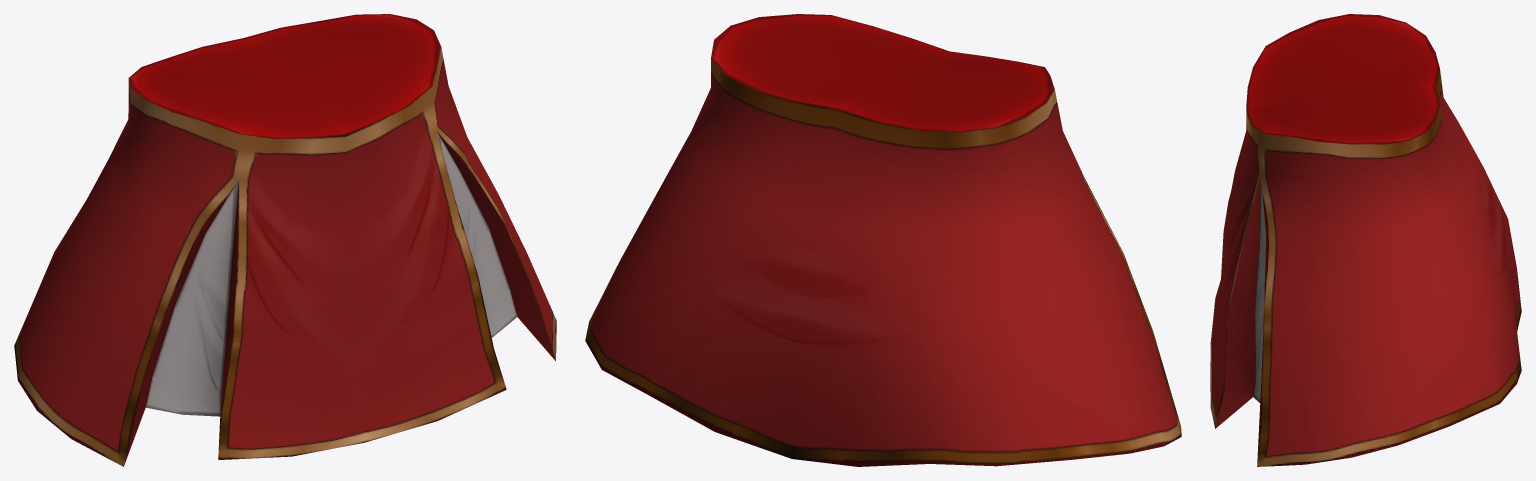
The model's file is armorskirt.glb.
3 views of the same model, side by side, from view 1: azimuth 30°, elevation 25°; view 2: azimuth 150°, elevation 25°; view 3: azimuth 270°, elevation 25° (orthographic). The views are drawn at different scales.
Visible parts, largest first — view 1: armorskirt; view 2: armorskirt; view 3: armorskirt.
Boxes of the visible parts, left/top/right/bottom form: armorskirt: left=14, top=14, right=556, bottom=466; armorskirt: left=585, top=14, right=1181, bottom=466; armorskirt: left=1210, top=14, right=1521, bottom=466.
Bounding box in the file's own units: 0.6305 × 0.3856 × 0.3638.
Materials: 1 (1 with a texture image).
